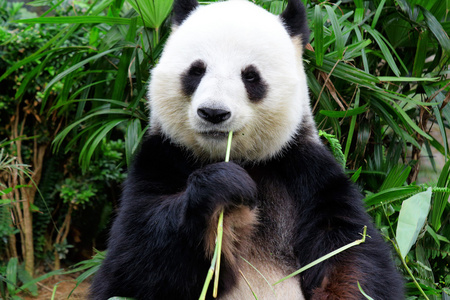panda: (111, 3, 408, 296)
